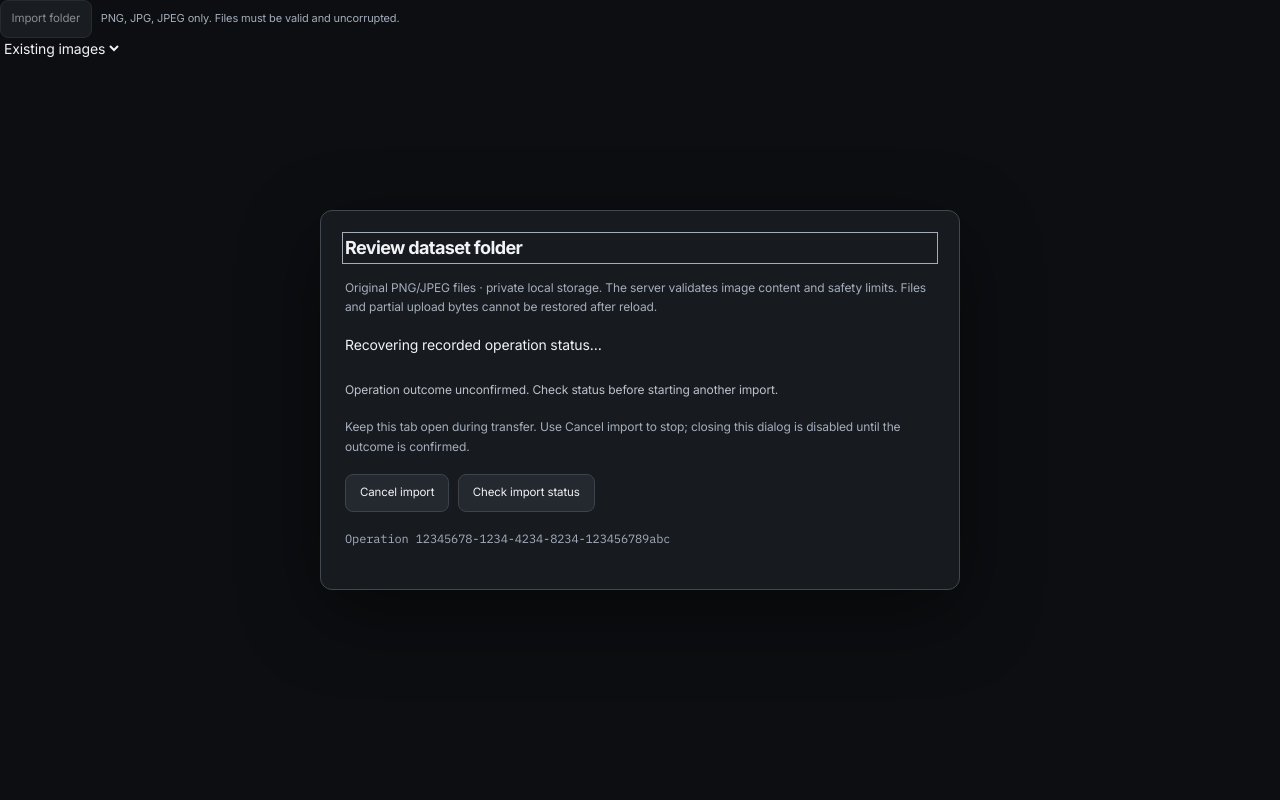
Test case: native folder import workflow › offers recovery after interrupted polling and resolves the retained receipt without uploading again
The image size is (1280, 800).
Expected: the text "Operation outcome unconfirmed. Check status before starting another import." is shown, [345,382,778,397]
Expected: the button "Import folder" is disabled, [0,0,92,38]
Step 1. Click the button "Check import status" → (526, 493), box [458,474,595,512]
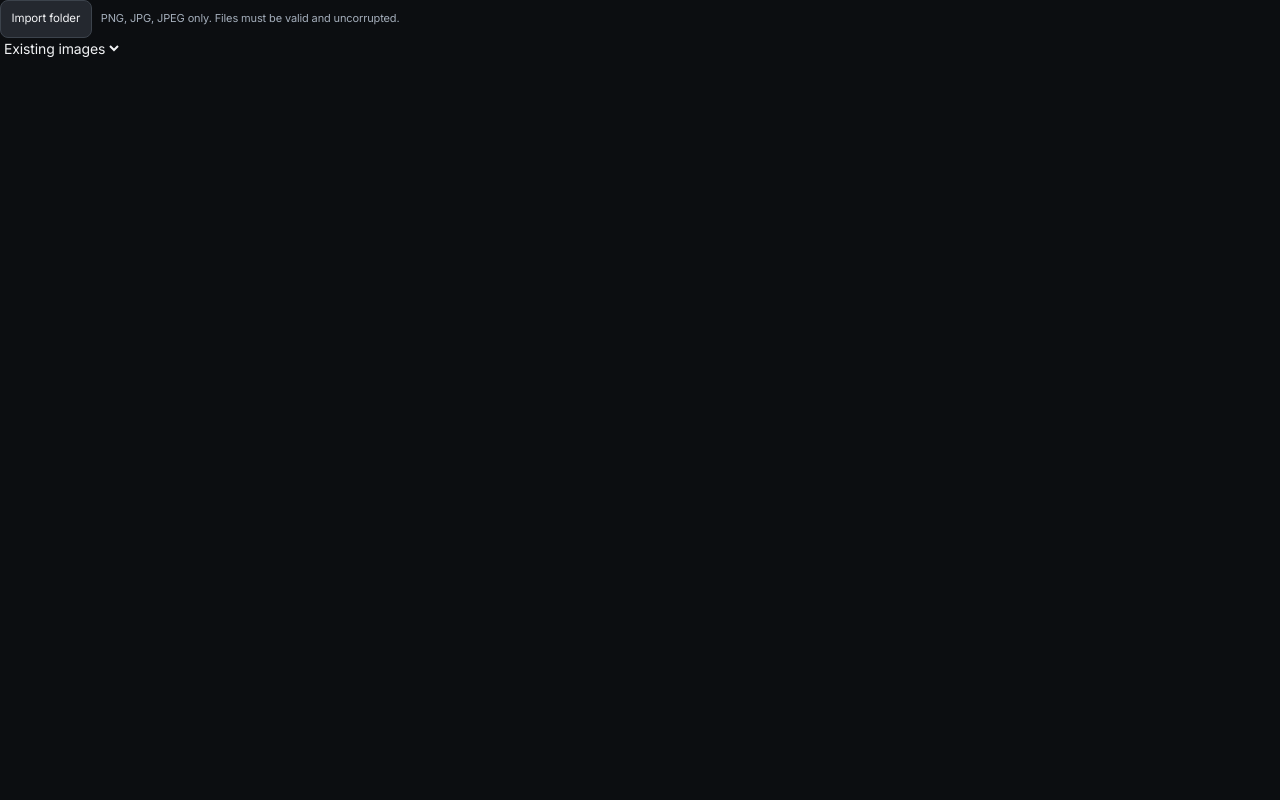
Now the dialog is gone
